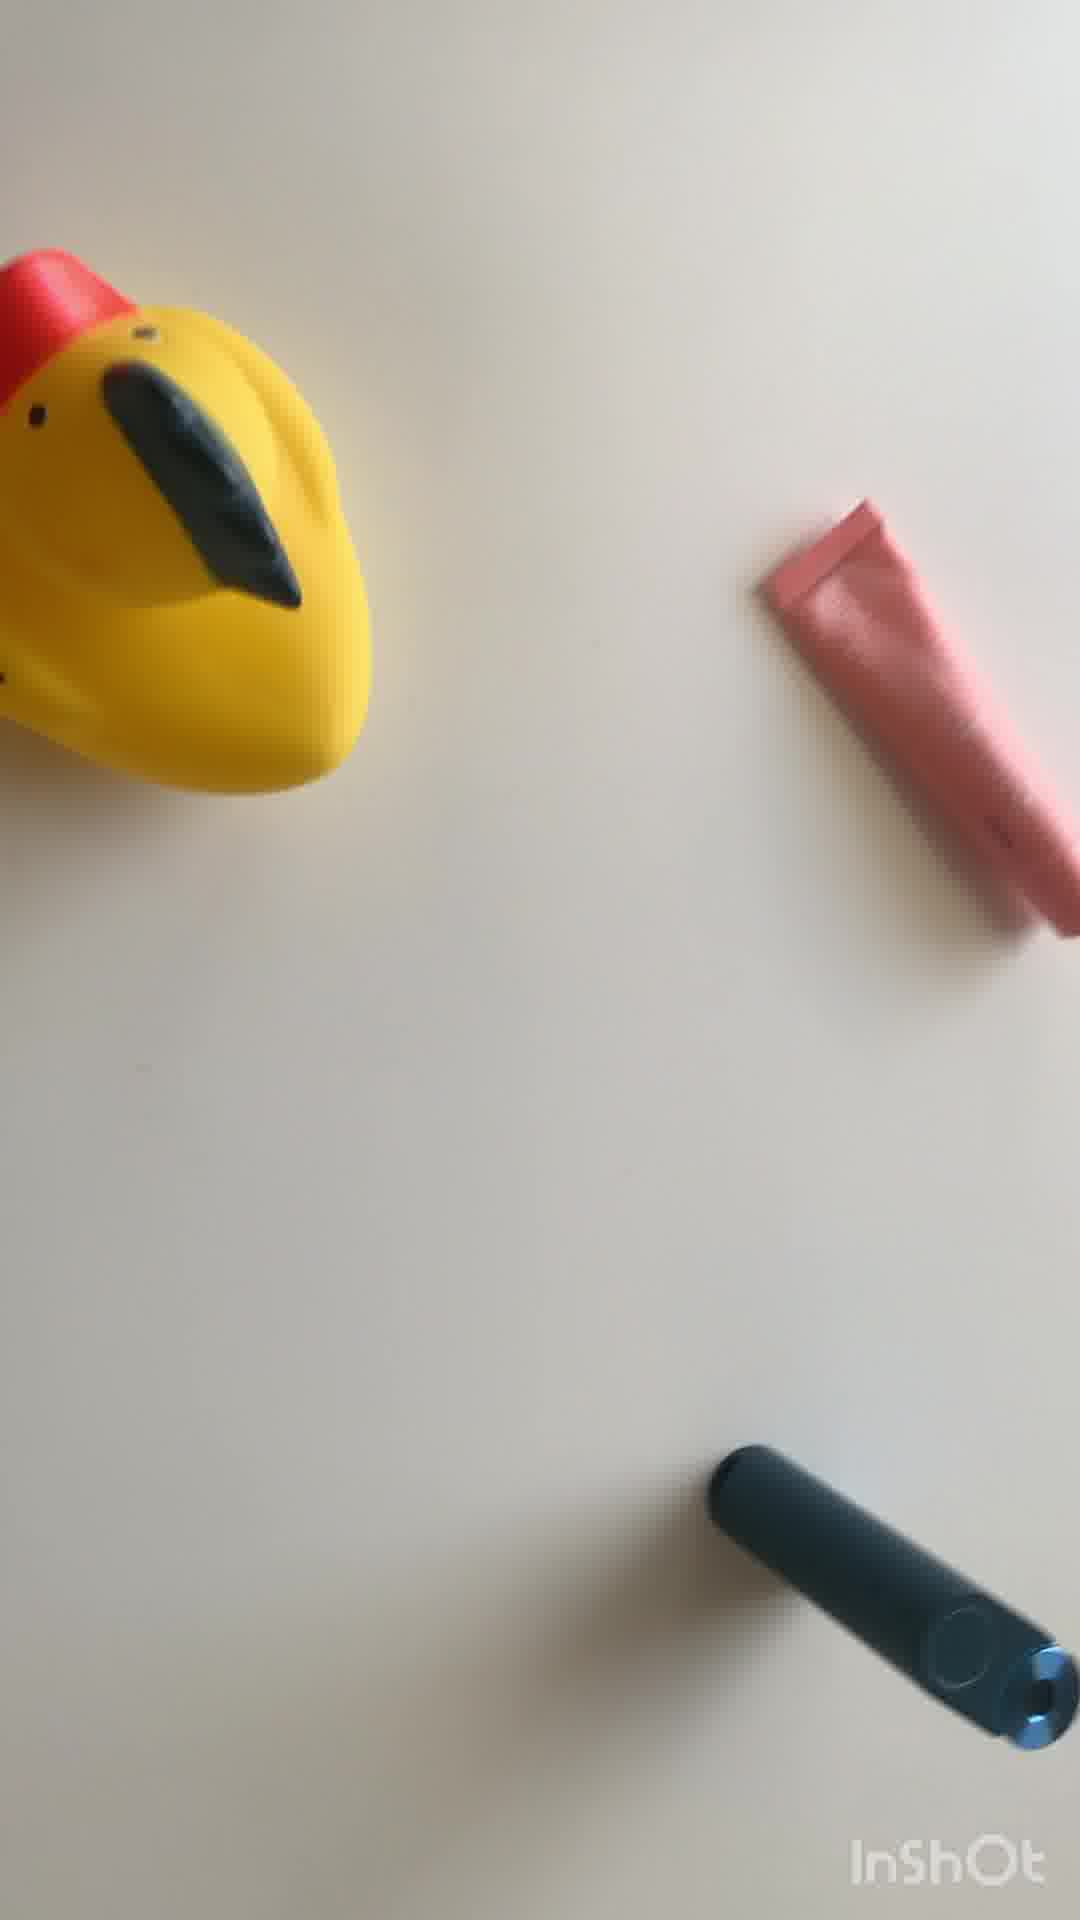duck: (1, 241, 380, 803)
glo: (713, 1444, 1080, 1741)
lip balm: (756, 498, 1080, 952)
